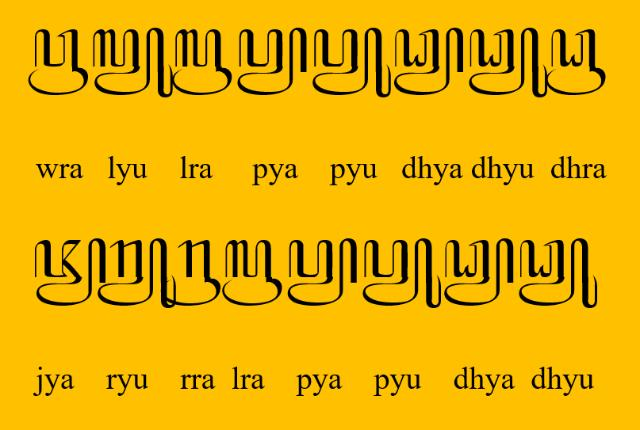dhr: (546, 29, 606, 96)
dhy: (394, 27, 464, 97), (444, 238, 514, 306)
dhyu: (519, 238, 599, 310), (468, 27, 548, 98)
jy: (33, 238, 105, 306)
lr: (222, 240, 284, 306), (172, 29, 232, 96)
lyu: (92, 28, 174, 98)
py: (238, 26, 308, 95), (288, 238, 358, 306)
pyu: (312, 27, 392, 99), (362, 237, 442, 309)
rr: (161, 240, 221, 306)
ryu: (98, 238, 176, 310)
wr: (28, 28, 88, 97)
